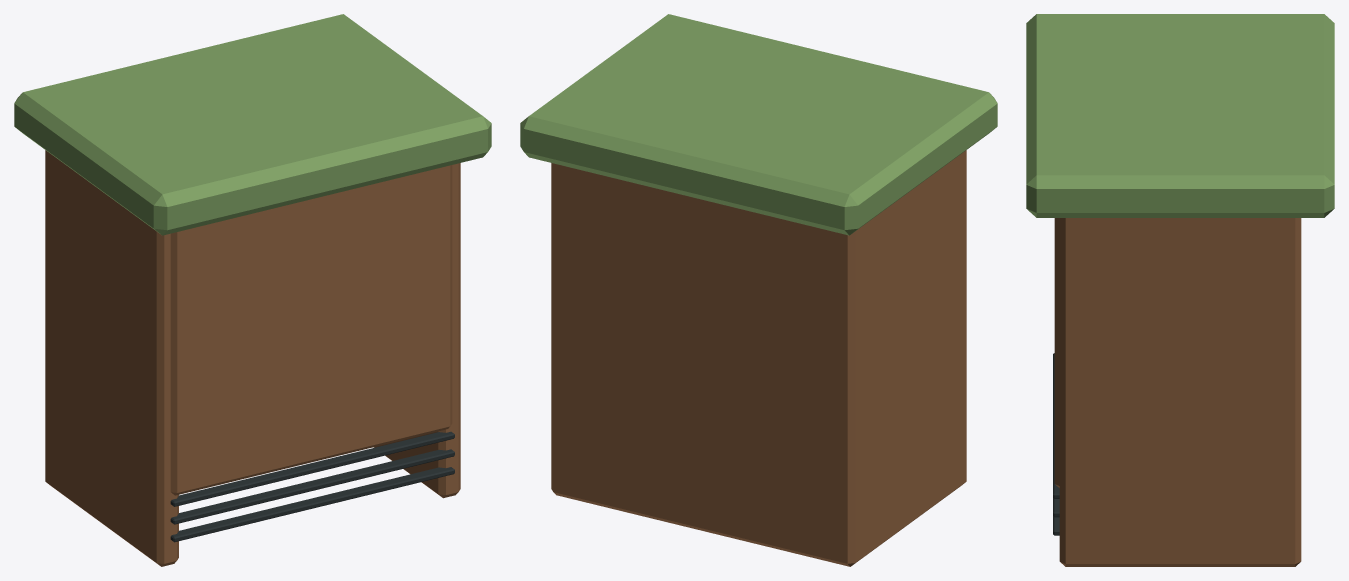
The model's file is Bat_Box.glb.
The picture shows the model from 3 angles, left to right: view 1: azimuth 30°, elevation 25°; view 2: azimuth 150°, elevation 25°; view 3: azimuth 270°, elevation 25°; orthographic projection. The views are drawn at different scales.
Parts seen in each view (by area): view 1: Bat_Box; view 2: Bat_Box; view 3: Bat_Box.
Part boxes in pixels (x1,y1,x2,y2): Bat_Box: (14, 14, 491, 566); Bat_Box: (520, 14, 997, 566); Bat_Box: (1026, 14, 1334, 566).
Size of the model in its own units: 0.6 by 0.655 by 0.46.
